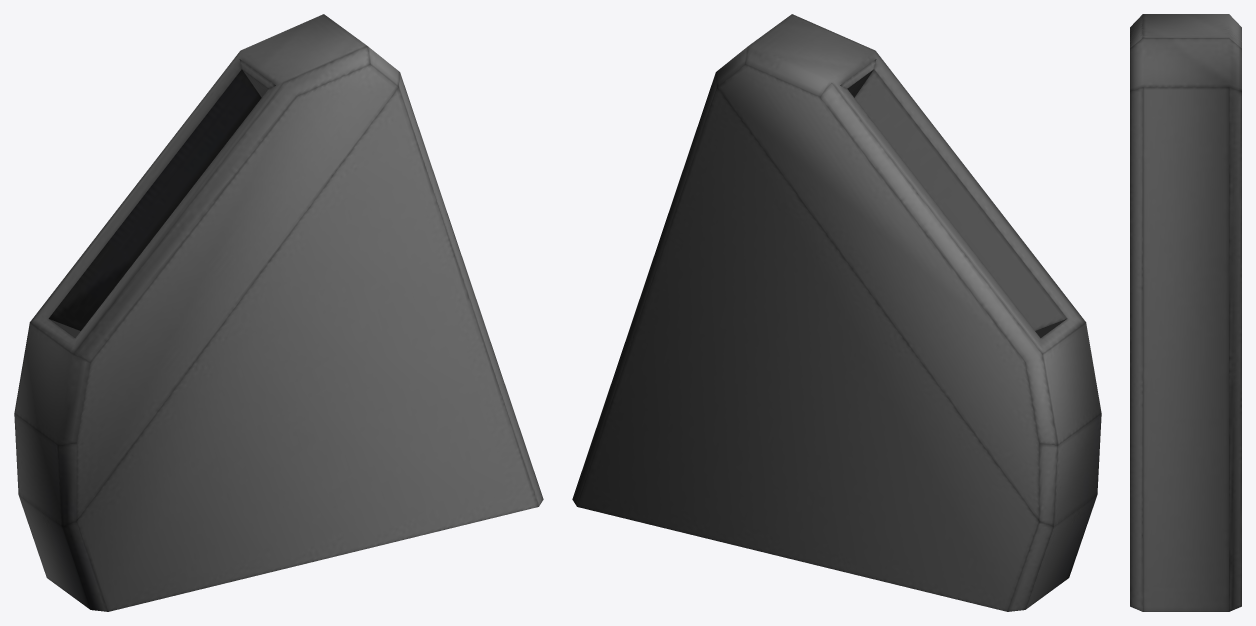
The model's file is angleShooter.obj.
The picture shows the model from 3 angles, left to right: view 1: azimuth 30°, elevation 25°; view 2: azimuth 150°, elevation 25°; view 3: azimuth 270°, elevation 25°; orthographic projection.
Parts seen in each view (by area): view 1: angleshooter; view 2: angleshooter; view 3: angleshooter.
Boxes of the visible parts, x1=… form: angleshooter: x1=14, y1=14, x2=543, y2=611; angleshooter: x1=572, y1=14, x2=1101, y2=611; angleshooter: x1=1130, y1=14, x2=1241, y2=611.
Size of the model in its own units: 141 by 137 by 28.46.
1 material, 1 textured.
